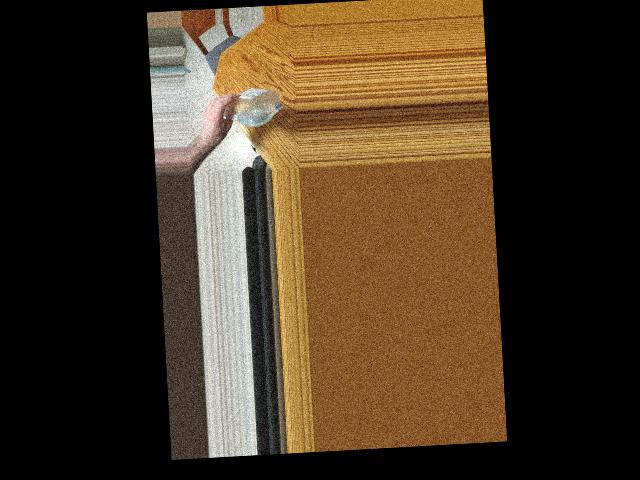cheese: (210, 85, 284, 126)
